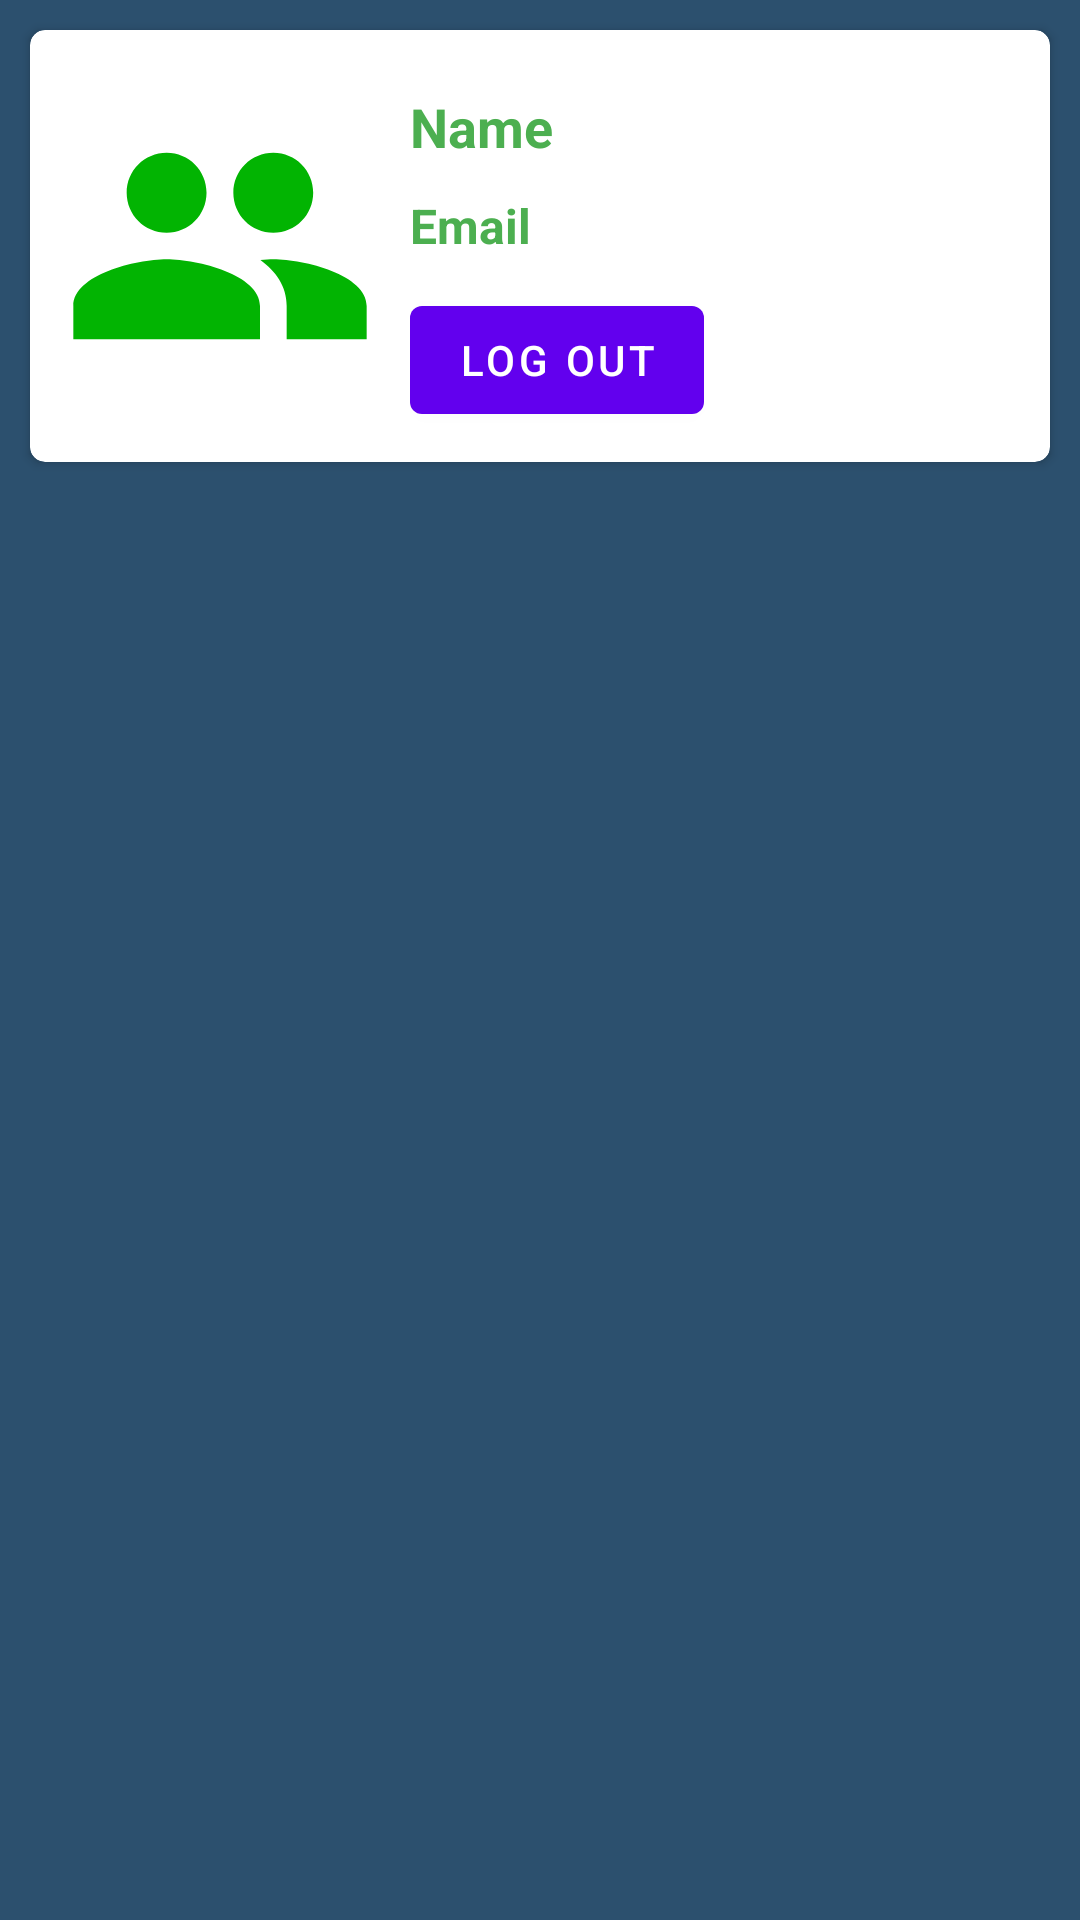

Icon click points for this 1080px x 1920px phone screenshot, format [x,y]:
user: [220,246]
